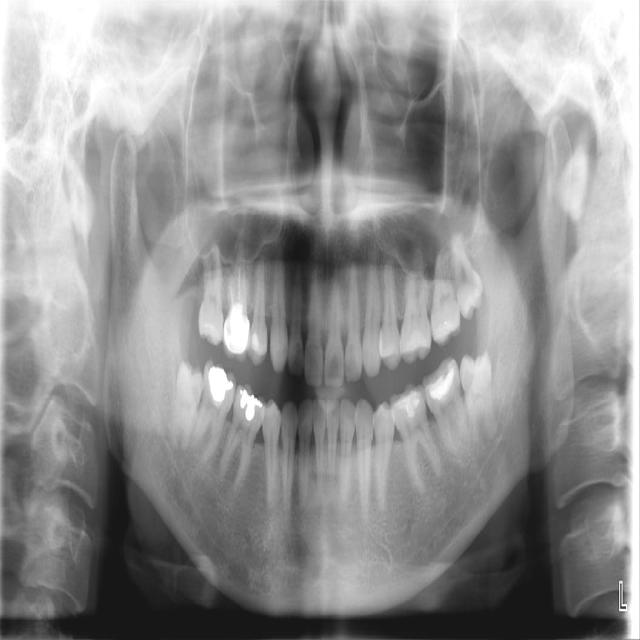Crown: (222, 313, 252, 362)
Filling: (423, 362, 455, 401), (208, 367, 233, 408), (388, 387, 423, 416), (237, 389, 264, 421), (403, 328, 431, 351), (373, 403, 395, 421), (252, 332, 263, 352)
Periapical lesion: (479, 417, 505, 462)
Root Canal Treatment: (236, 241, 241, 296), (229, 279, 234, 313)
impacted tooth: (460, 350, 499, 451), (167, 362, 204, 452)
